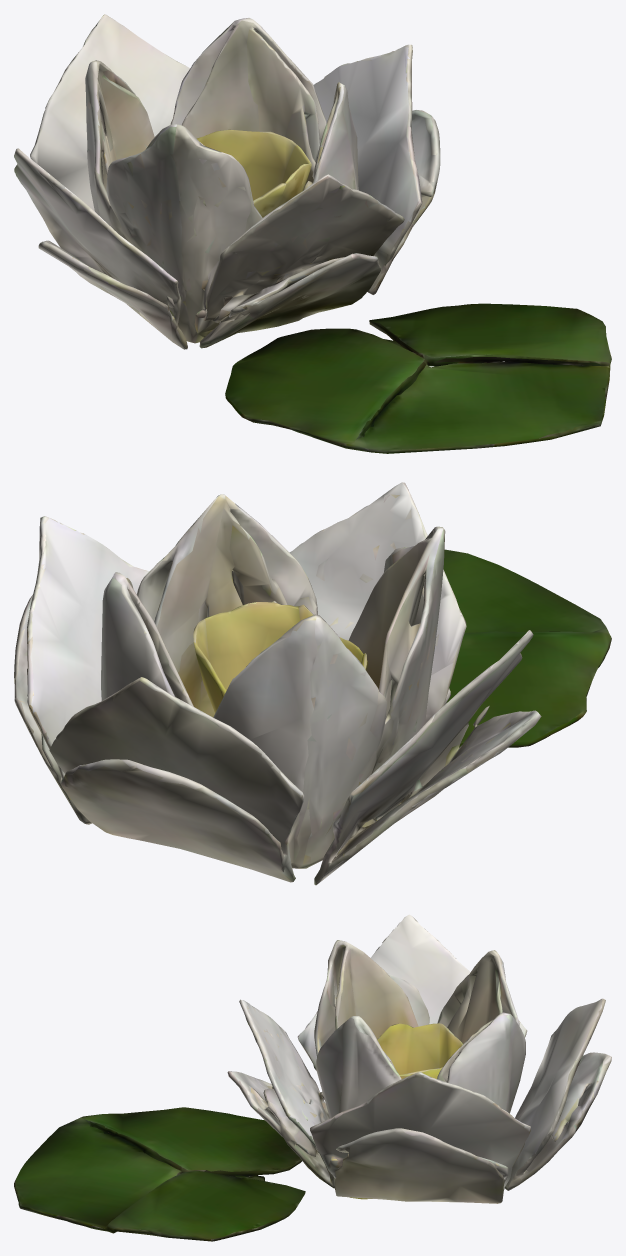
Rendered from waterlily.glb.
3 renders of one model, top to bottom at view 1: azimuth 30°, elevation 25°; view 2: azimuth 150°, elevation 25°; view 3: azimuth 270°, elevation 25°, orthographic. The views are drawn at different scales.
Parts seen in each view (by area): view 1: geometry_0; view 2: geometry_0; view 3: geometry_0.
Part boxes in pixels (x1,y1,x2,y2): geometry_0: (14, 14, 611, 453); geometry_0: (14, 482, 611, 885); geometry_0: (14, 914, 611, 1241).
Bounding box in the file's own units: 0.7035 × 0.3497 × 0.9998.
1 material, 1 textured.
